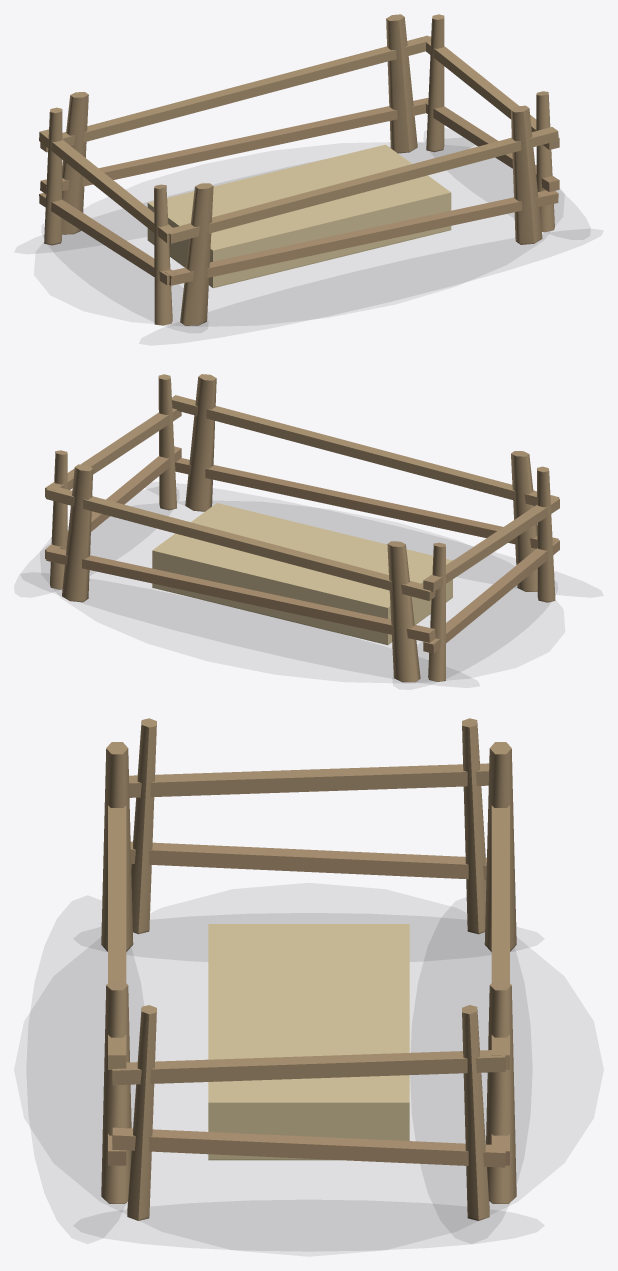
Rendered from brahmin_pen.glb.
3 renders of one model, top to bottom at view 1: azimuth 30°, elevation 25°; view 2: azimuth 150°, elevation 25°; view 3: azimuth 270°, elevation 25°, orthographic. The views are drawn at different scales.
Visible parts, largest first — view 1: hay_bale, cross_rail_1 (×4), cross_rail_0 (×4), wood_post_1 (×4), wood_post_0 (×4); view 2: hay_bale, cross_rail_1 (×4), cross_rail_0 (×4), wood_post_1 (×4), wood_post_0 (×4); view 3: hay_bale, cross_rail_1 (×4), wood_post_1 (×4), cross_rail_0 (×2), wood_post_0 (×4).
Boxes of the visible parts, x1,y1,x2,y2 form: hay_bale: (147,144,451,288); cross_rail_1 (×4): (39,35,559,243); cross_rail_0 (×4): (39,98,559,285); wood_post_1 (×4): (44,14,542,245); wood_post_0 (×4): (62,91,554,325); hay_bale: (152,503,452,645); cross_rail_1 (×4): (45,395,559,600); cross_rail_0 (×4): (45,446,559,653); wood_post_1 (×4): (50,374,445,681); wood_post_0 (×4): (158,374,555,682); hay_bale: (208,924,409,1160); cross_rail_1 (×4): (108,763,509,1085); wood_post_1 (×4): (101,718,516,1220); cross_rail_0 (×2): (112,841,505,1167); wood_post_0 (×4): (101,718,516,1220).
Bounding box in the file's own units: 3.6 × 0.9241 × 2.4.
